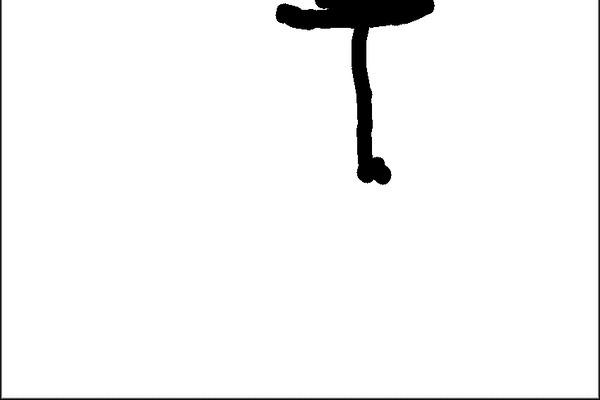T: (249, 0, 469, 190)
